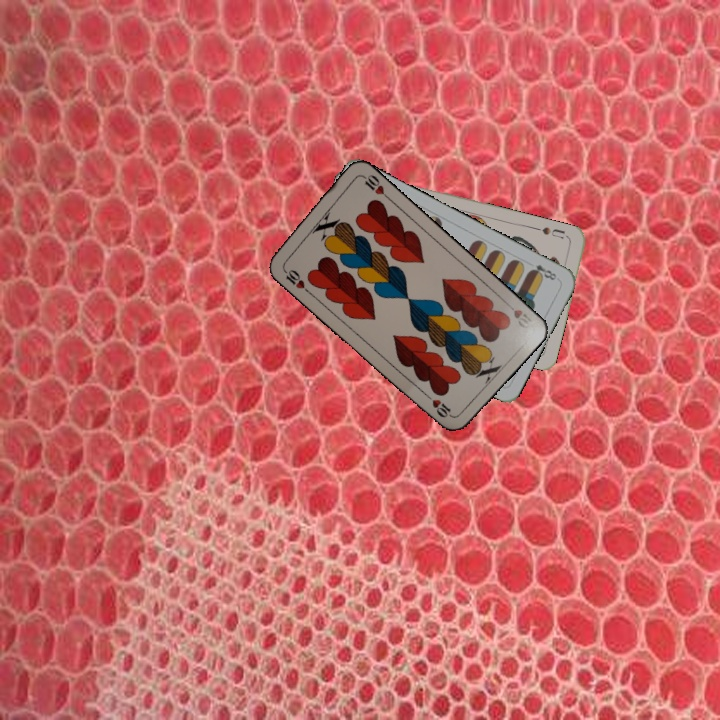E8: (525, 260, 561, 283)
H10: (502, 298, 537, 331), (279, 264, 312, 295)
SU: (538, 223, 571, 242)
